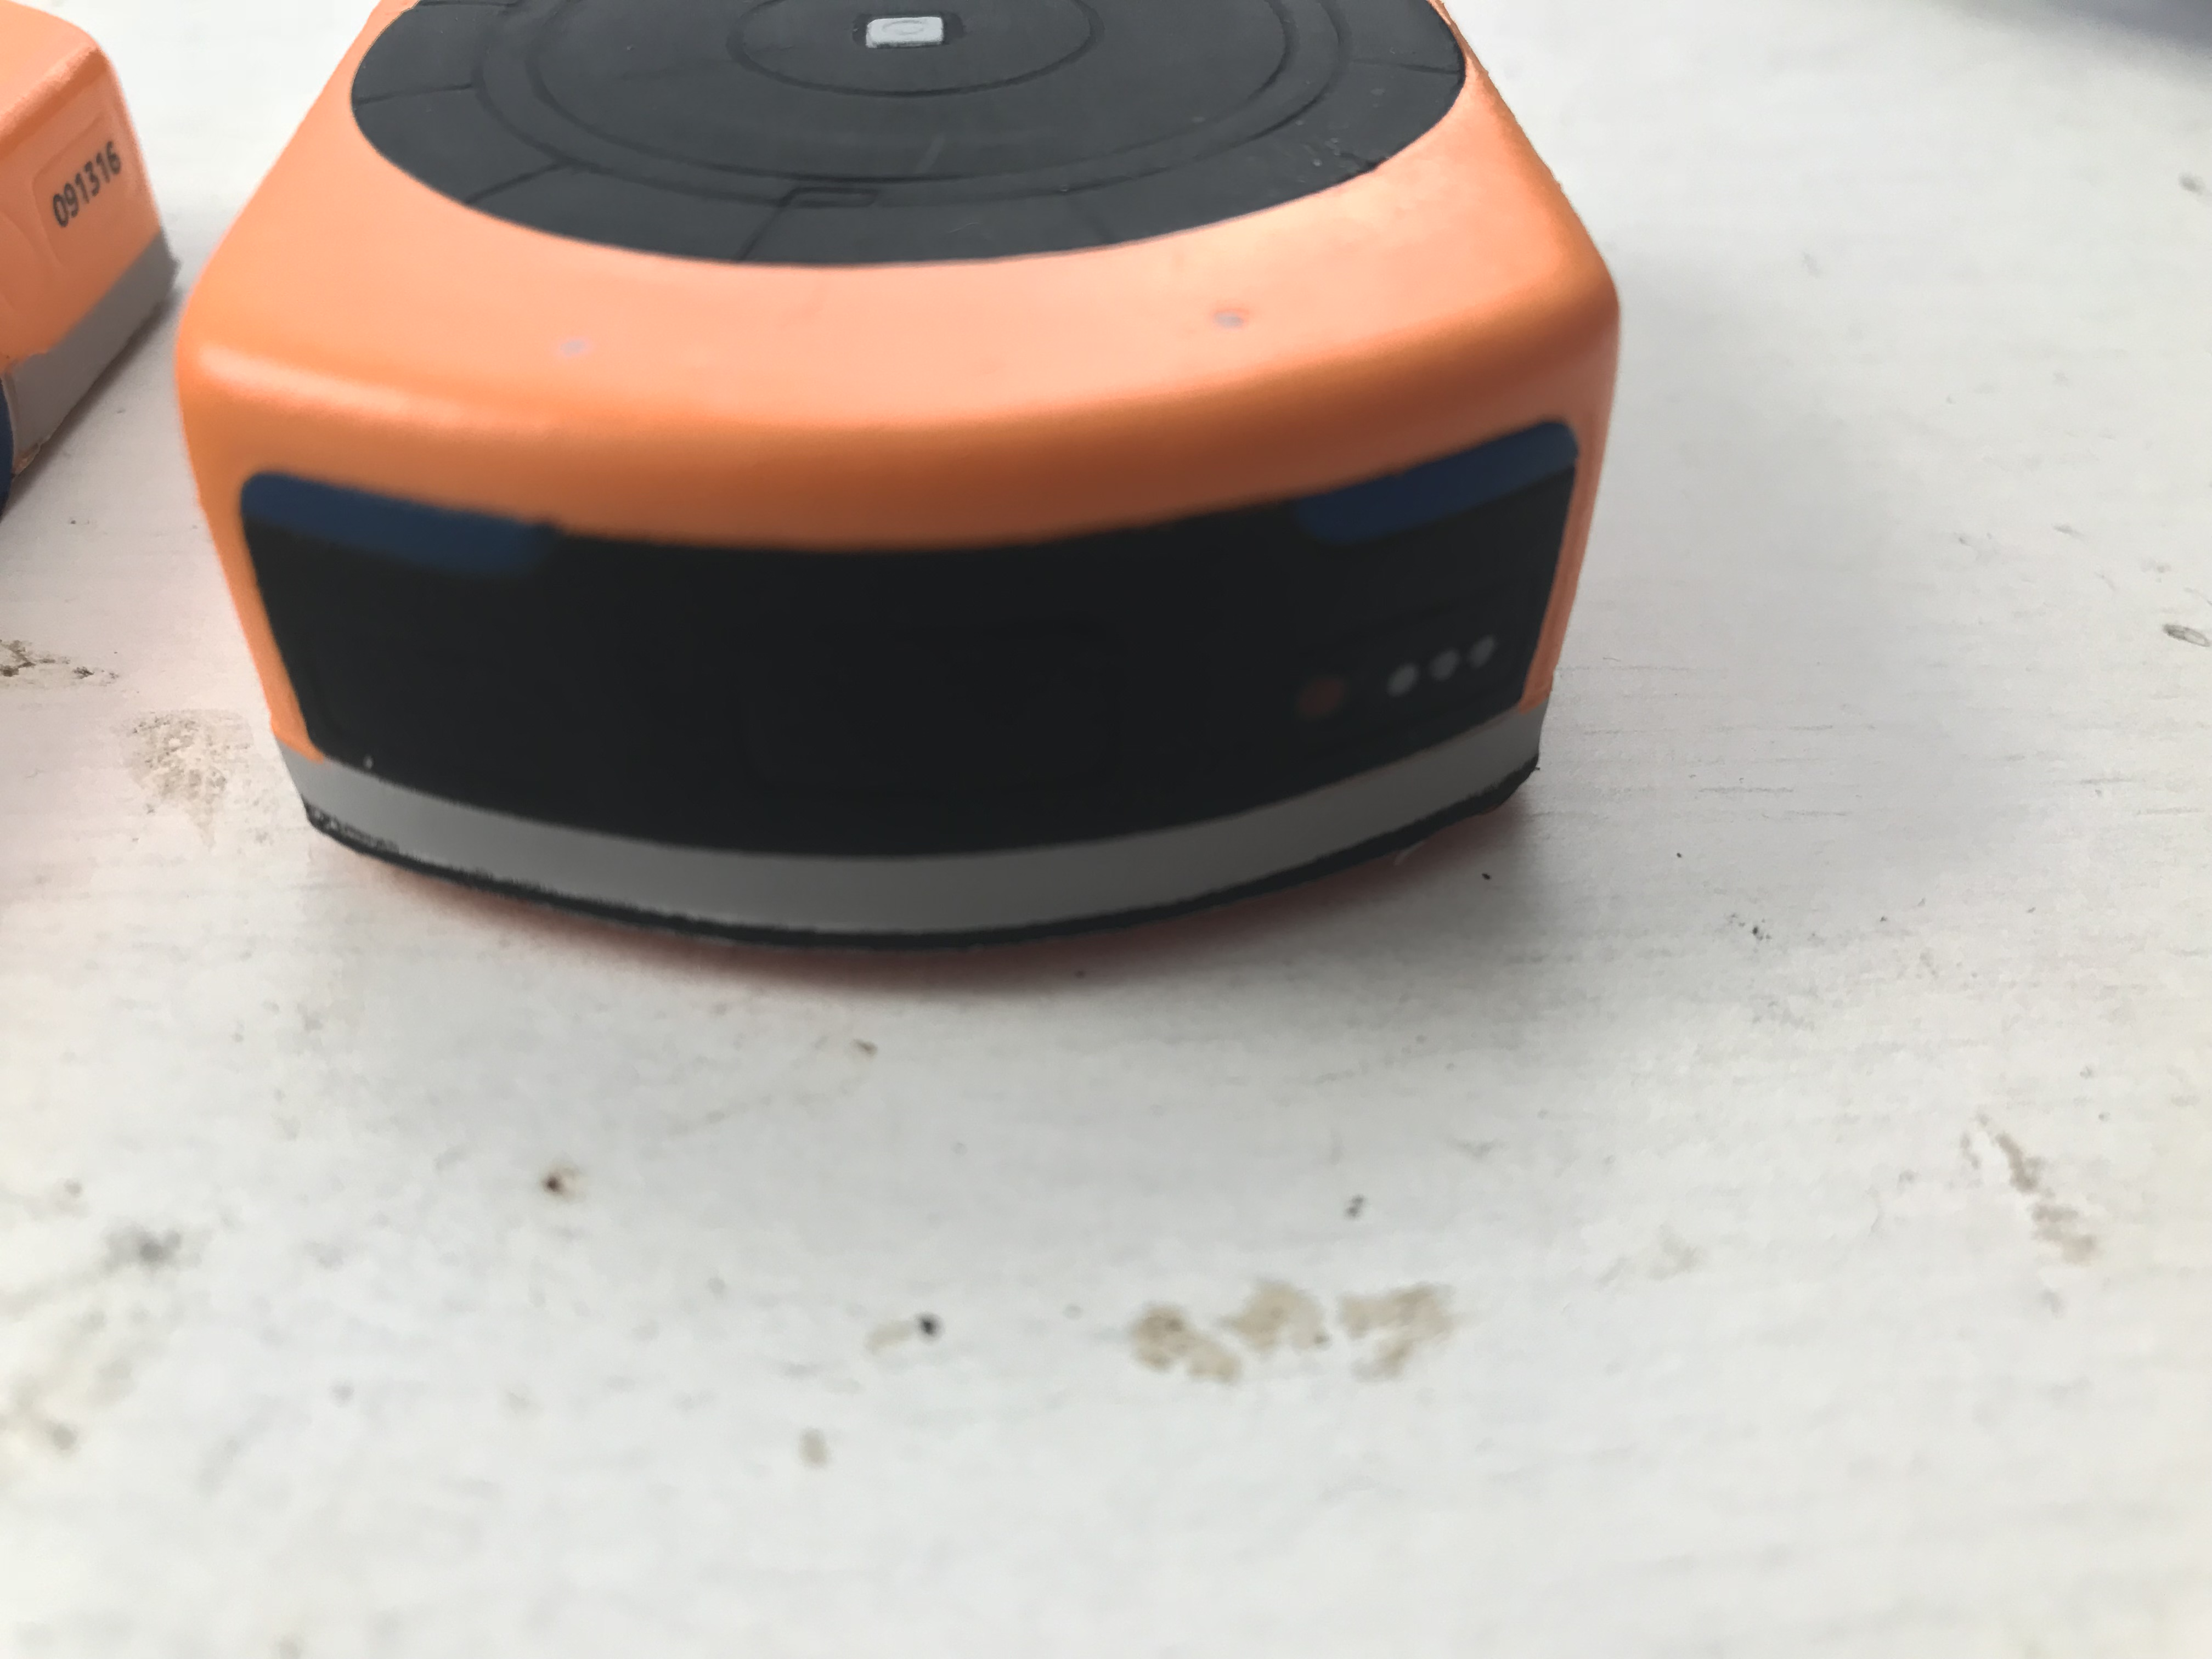amazon_bot: (145, 5, 1655, 1014)
